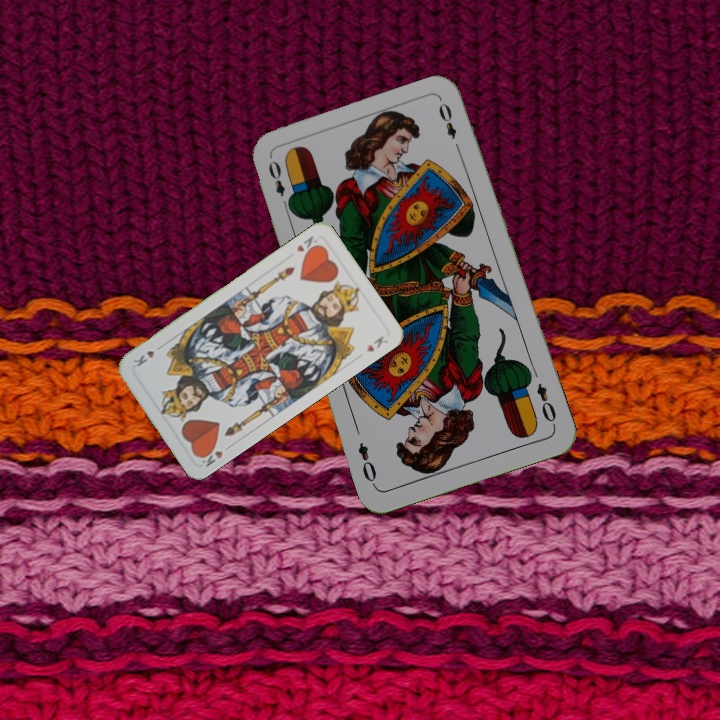EO: (264, 156, 294, 213), (532, 379, 559, 429)
HK: (195, 441, 234, 470), (292, 232, 323, 258)
